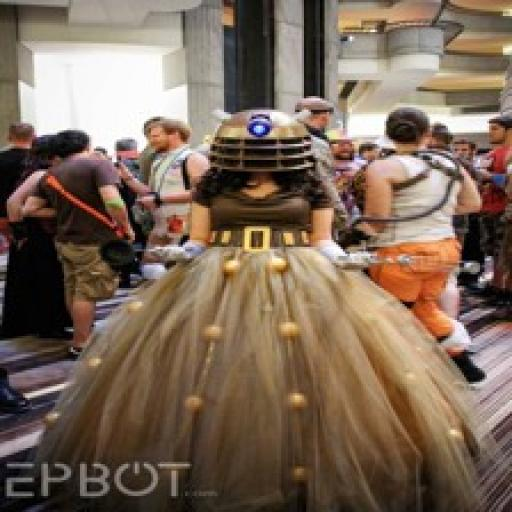dalek: (194, 102, 325, 182)
